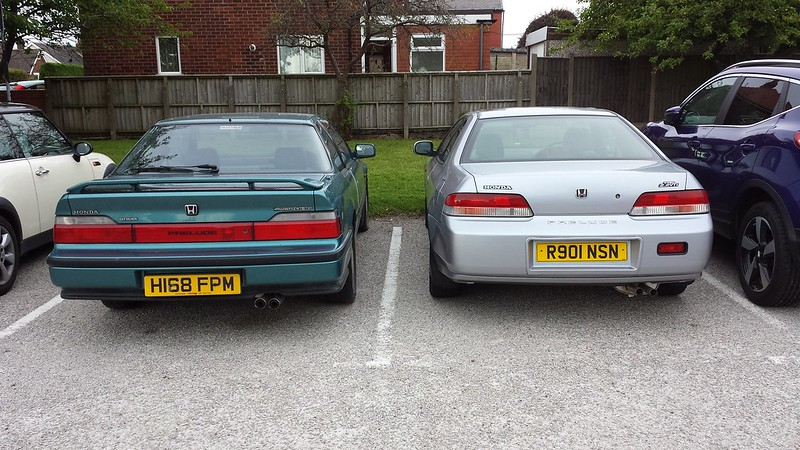number_plate: (132, 271, 252, 300), (526, 239, 638, 266)
